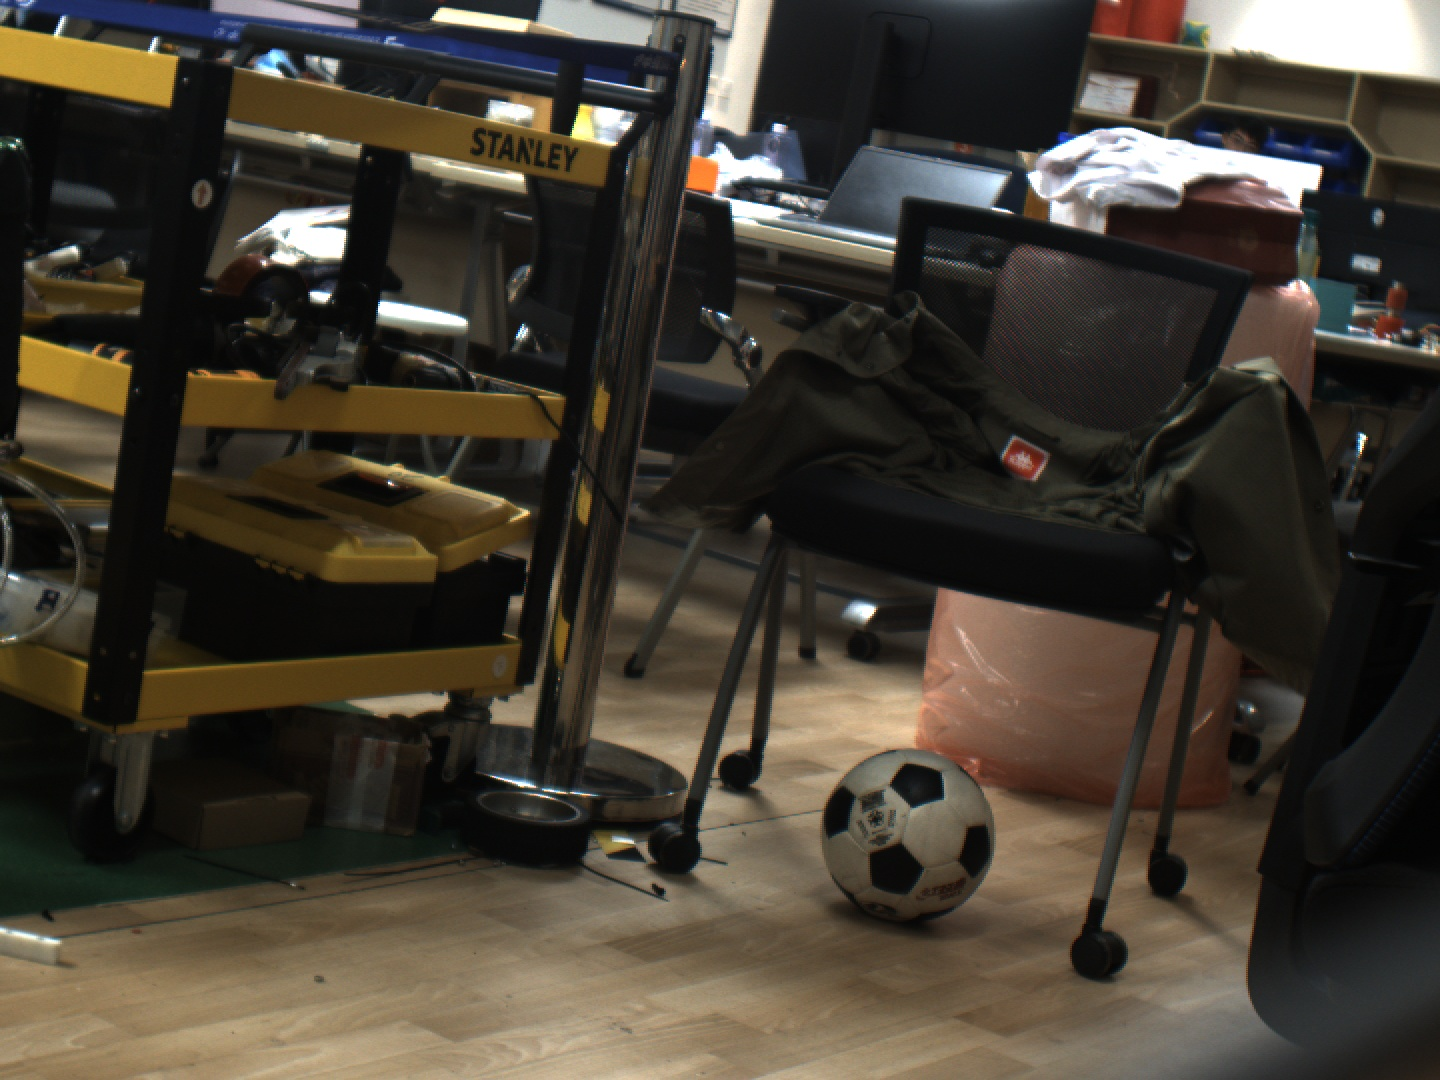ball: (805, 743, 1006, 926)
